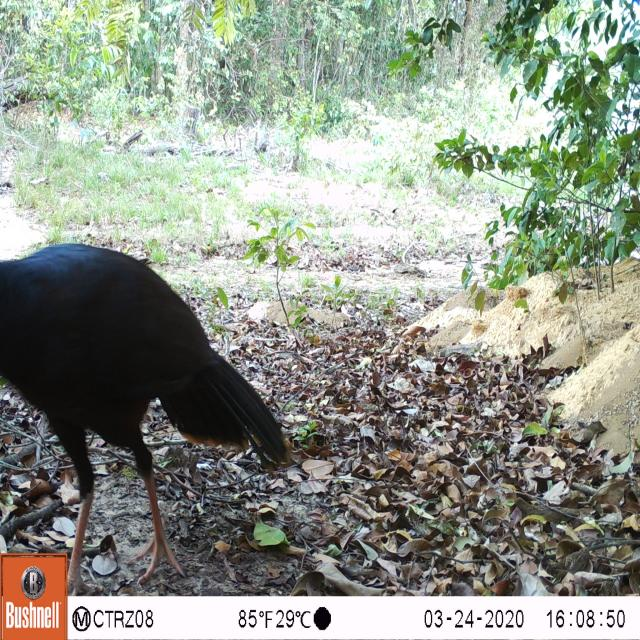Salvins Curassow: (0, 242, 303, 589)
